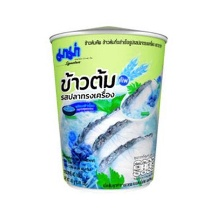paper_cup: (42, 20, 171, 194)
